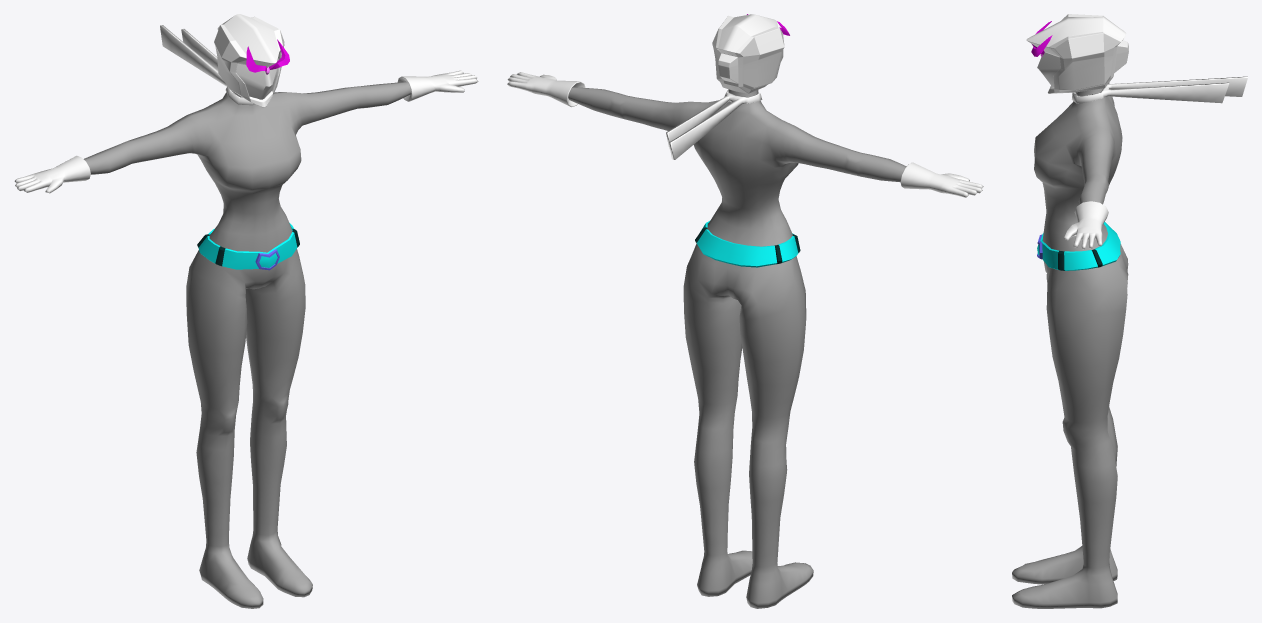
The model's file is HeroModel_UV_V3.fbx.
The picture shows the model from 3 angles, left to right: view 1: azimuth 30°, elevation 25°; view 2: azimuth 150°, elevation 25°; view 3: azimuth 270°, elevation 25°; orthographic projection. The views are drawn at different scales.
Parts seen in each view (by area): view 1: Hero_Body_Suit, Helmet, Belt, Scarf_v2, R_Hand, L_Hand, Helmet_Visor; view 2: Hero_Body_Suit, Helmet, Belt, Scarf_v2, R_Hand, L_Hand; view 3: Hero_Body_Suit, Helmet, Scarf_v2, Belt, L_Hand, Helmet_Visor.
Boxes of the visible parts, x1,y1,x2,y2 form: Hero_Body_Suit: (84,81,411,608); Helmet: (214,14,284,107); Belt: (197,223,299,270); Scarf_v2: (160,25,254,105); R_Hand: (14,155,90,193); L_Hand: (397,70,478,101); Helmet_Visor: (236,58,278,99); Hero_Body_Suit: (568,87,906,608); Helmet: (712,14,784,93); Belt: (695,221,800,267); Scarf_v2: (666,89,762,159); R_Hand: (900,162,983,197); L_Hand: (507,72,585,107); Hero_Body_Suit: (1012,83,1128,608); Helmet: (1026,14,1128,93); Scarf_v2: (1071,76,1247,103); Belt: (1037,222,1120,270); L_Hand: (1064,201,1108,249); Helmet_Visor: (1037,52,1060,87).
Size of the model in its own units: 1.49 by 0.643 by 1.72.
